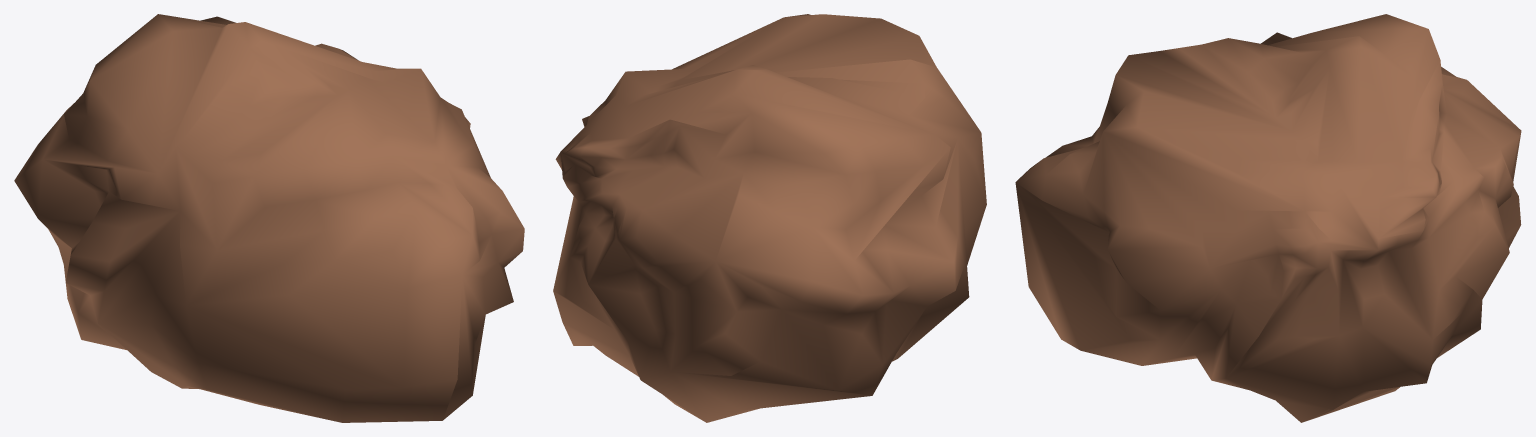
Rendered from rock_big_5.fbx.
3 renders of one model, left to right at view 1: azimuth 30°, elevation 25°; view 2: azimuth 150°, elevation 25°; view 3: azimuth 270°, elevation 25°, orthographic. The views are drawn at different scales.
Visible parts, largest first — view 1: Rock generator addon.008; view 2: Rock generator addon.008; view 3: Rock generator addon.008.
Part boxes in pixels (x1,y1,x2,y2): Rock generator addon.008: (14,14,524,422); Rock generator addon.008: (553,14,986,422); Rock generator addon.008: (1015,14,1521,422).
Size of the model in its own units: 103 by 88.87 by 122.
